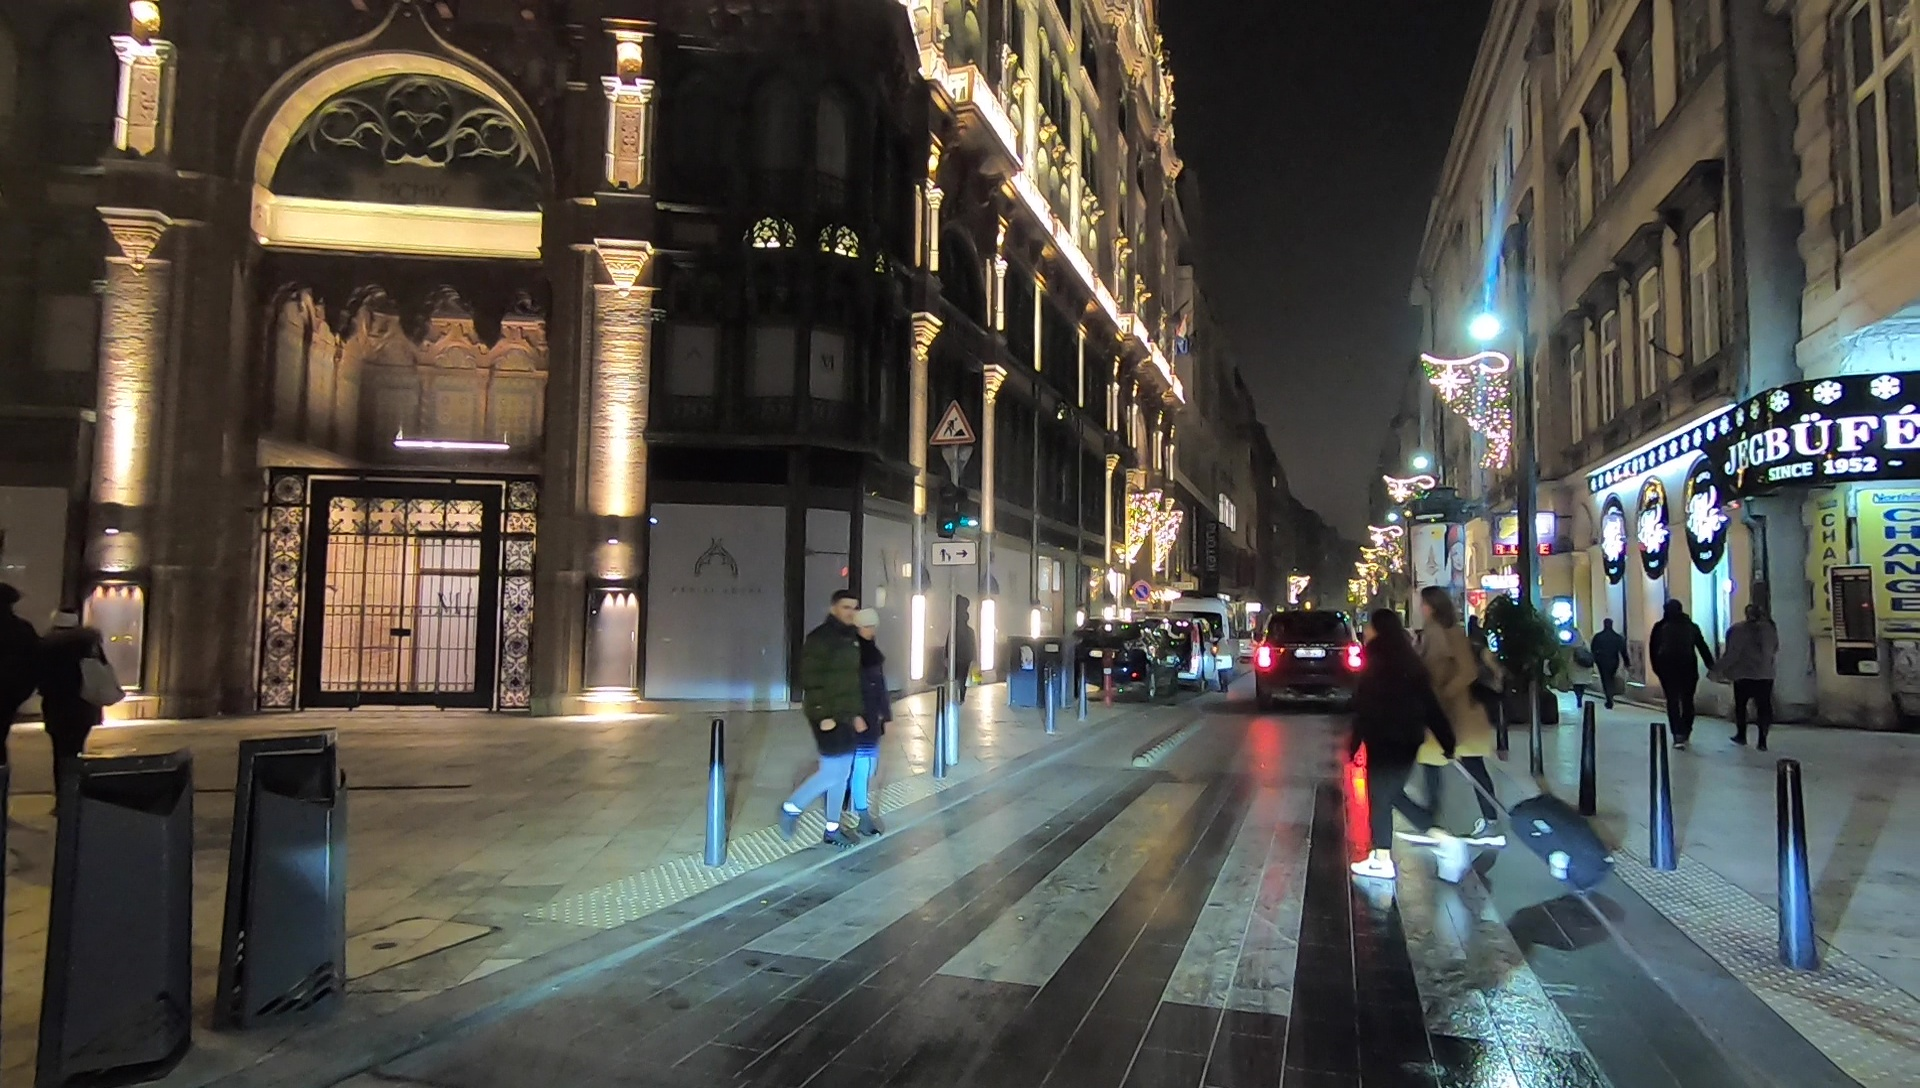person: (1350, 603, 1468, 884), (1412, 583, 1510, 856), (783, 588, 854, 848), (43, 608, 118, 813), (1648, 600, 1711, 753), (850, 605, 892, 842), (1726, 602, 1778, 749), (1592, 619, 1629, 709), (1566, 625, 1593, 709)
